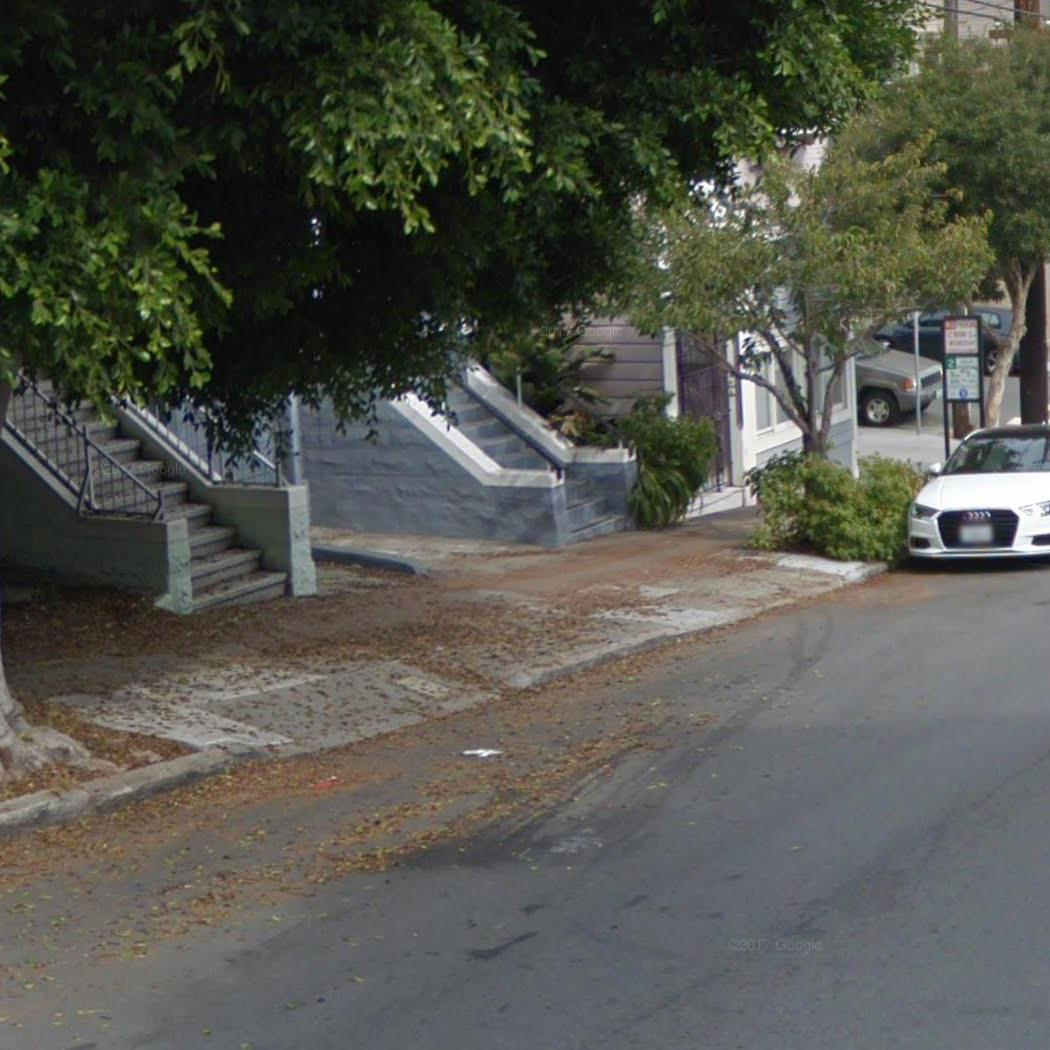2 Hour Parking: (943, 355, 980, 402)
No Parking: (943, 317, 982, 356)
